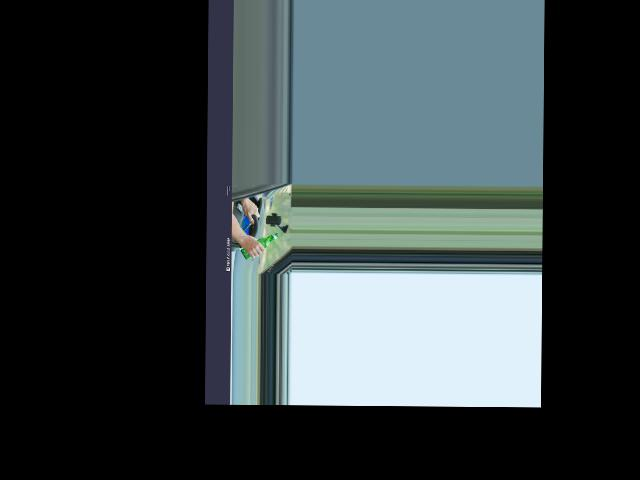beer: (240, 232, 278, 258)
